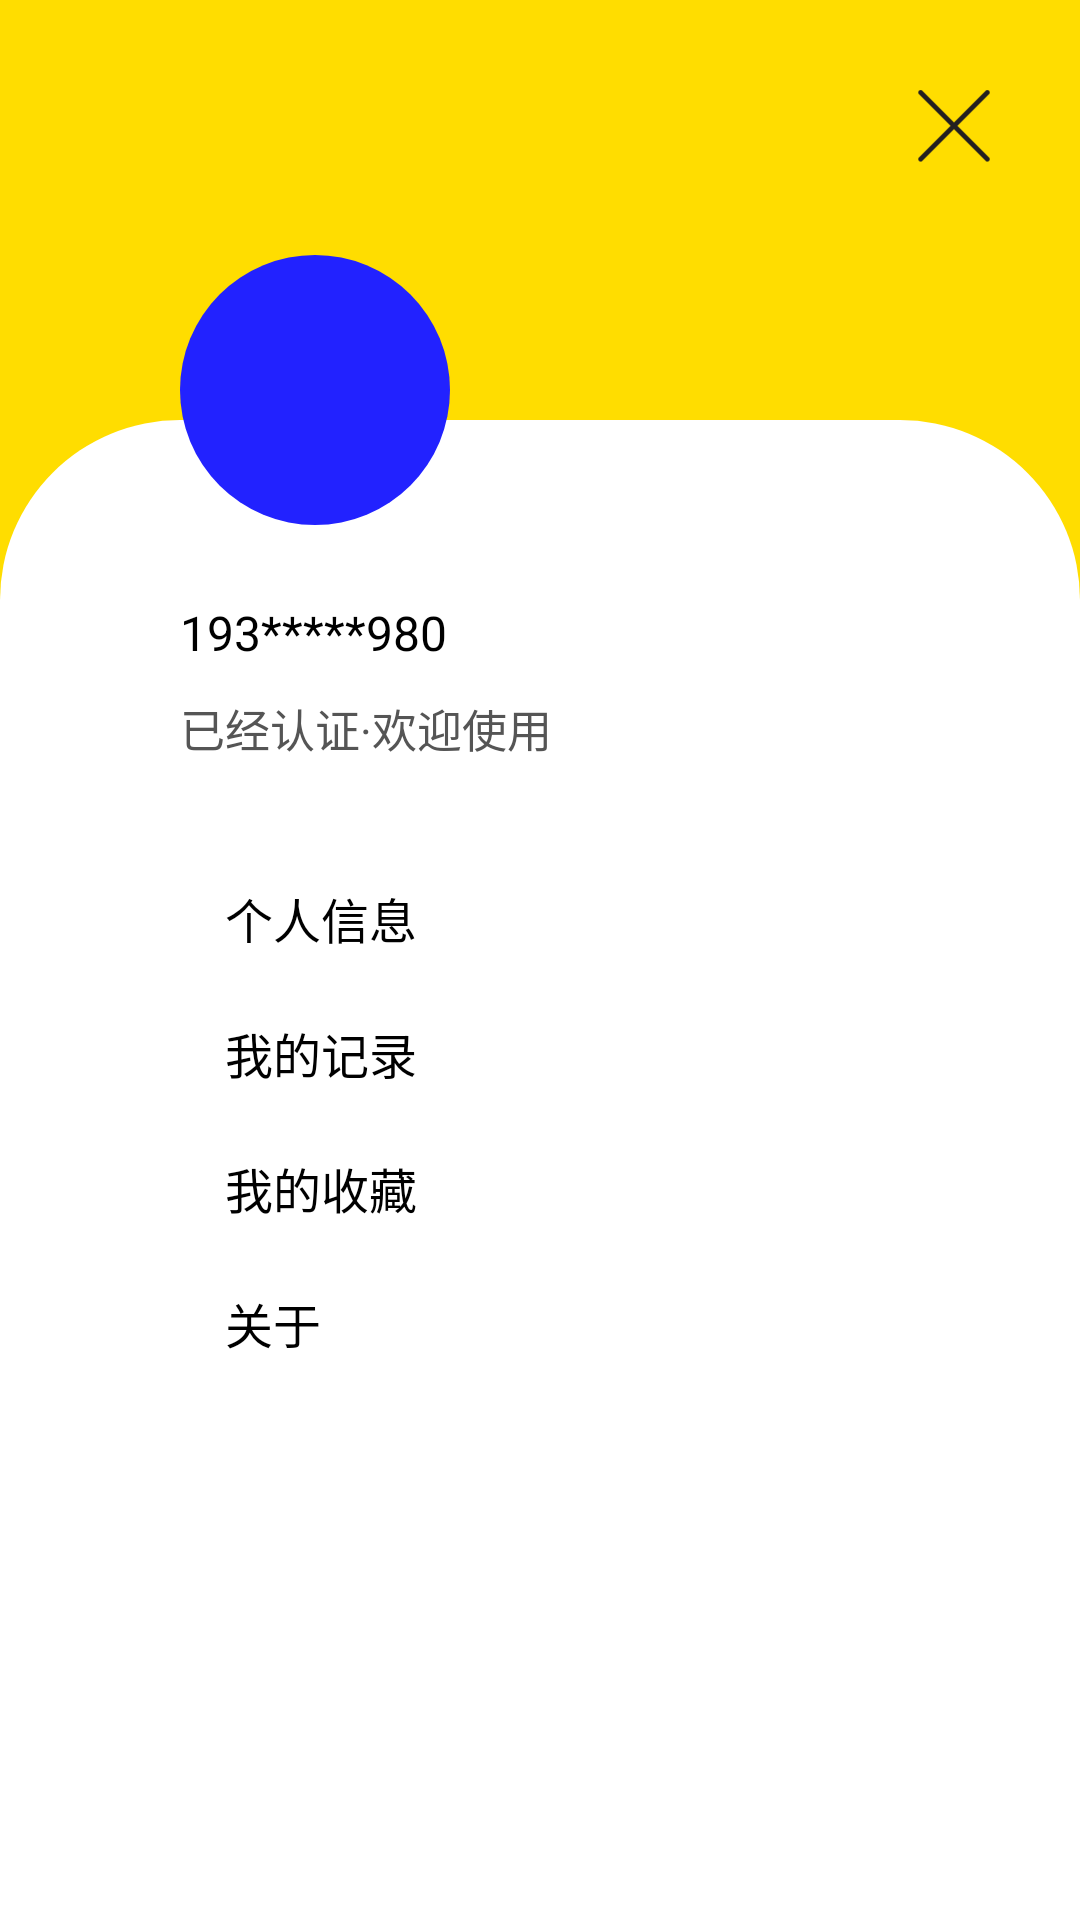

Named icons in this screenshot (1080px×1920px) and their bounding boxes, (x1=x1, y1=y1, x2=x2, y2=y2):
close: (x1=918, y1=90, x2=990, y2=162)
